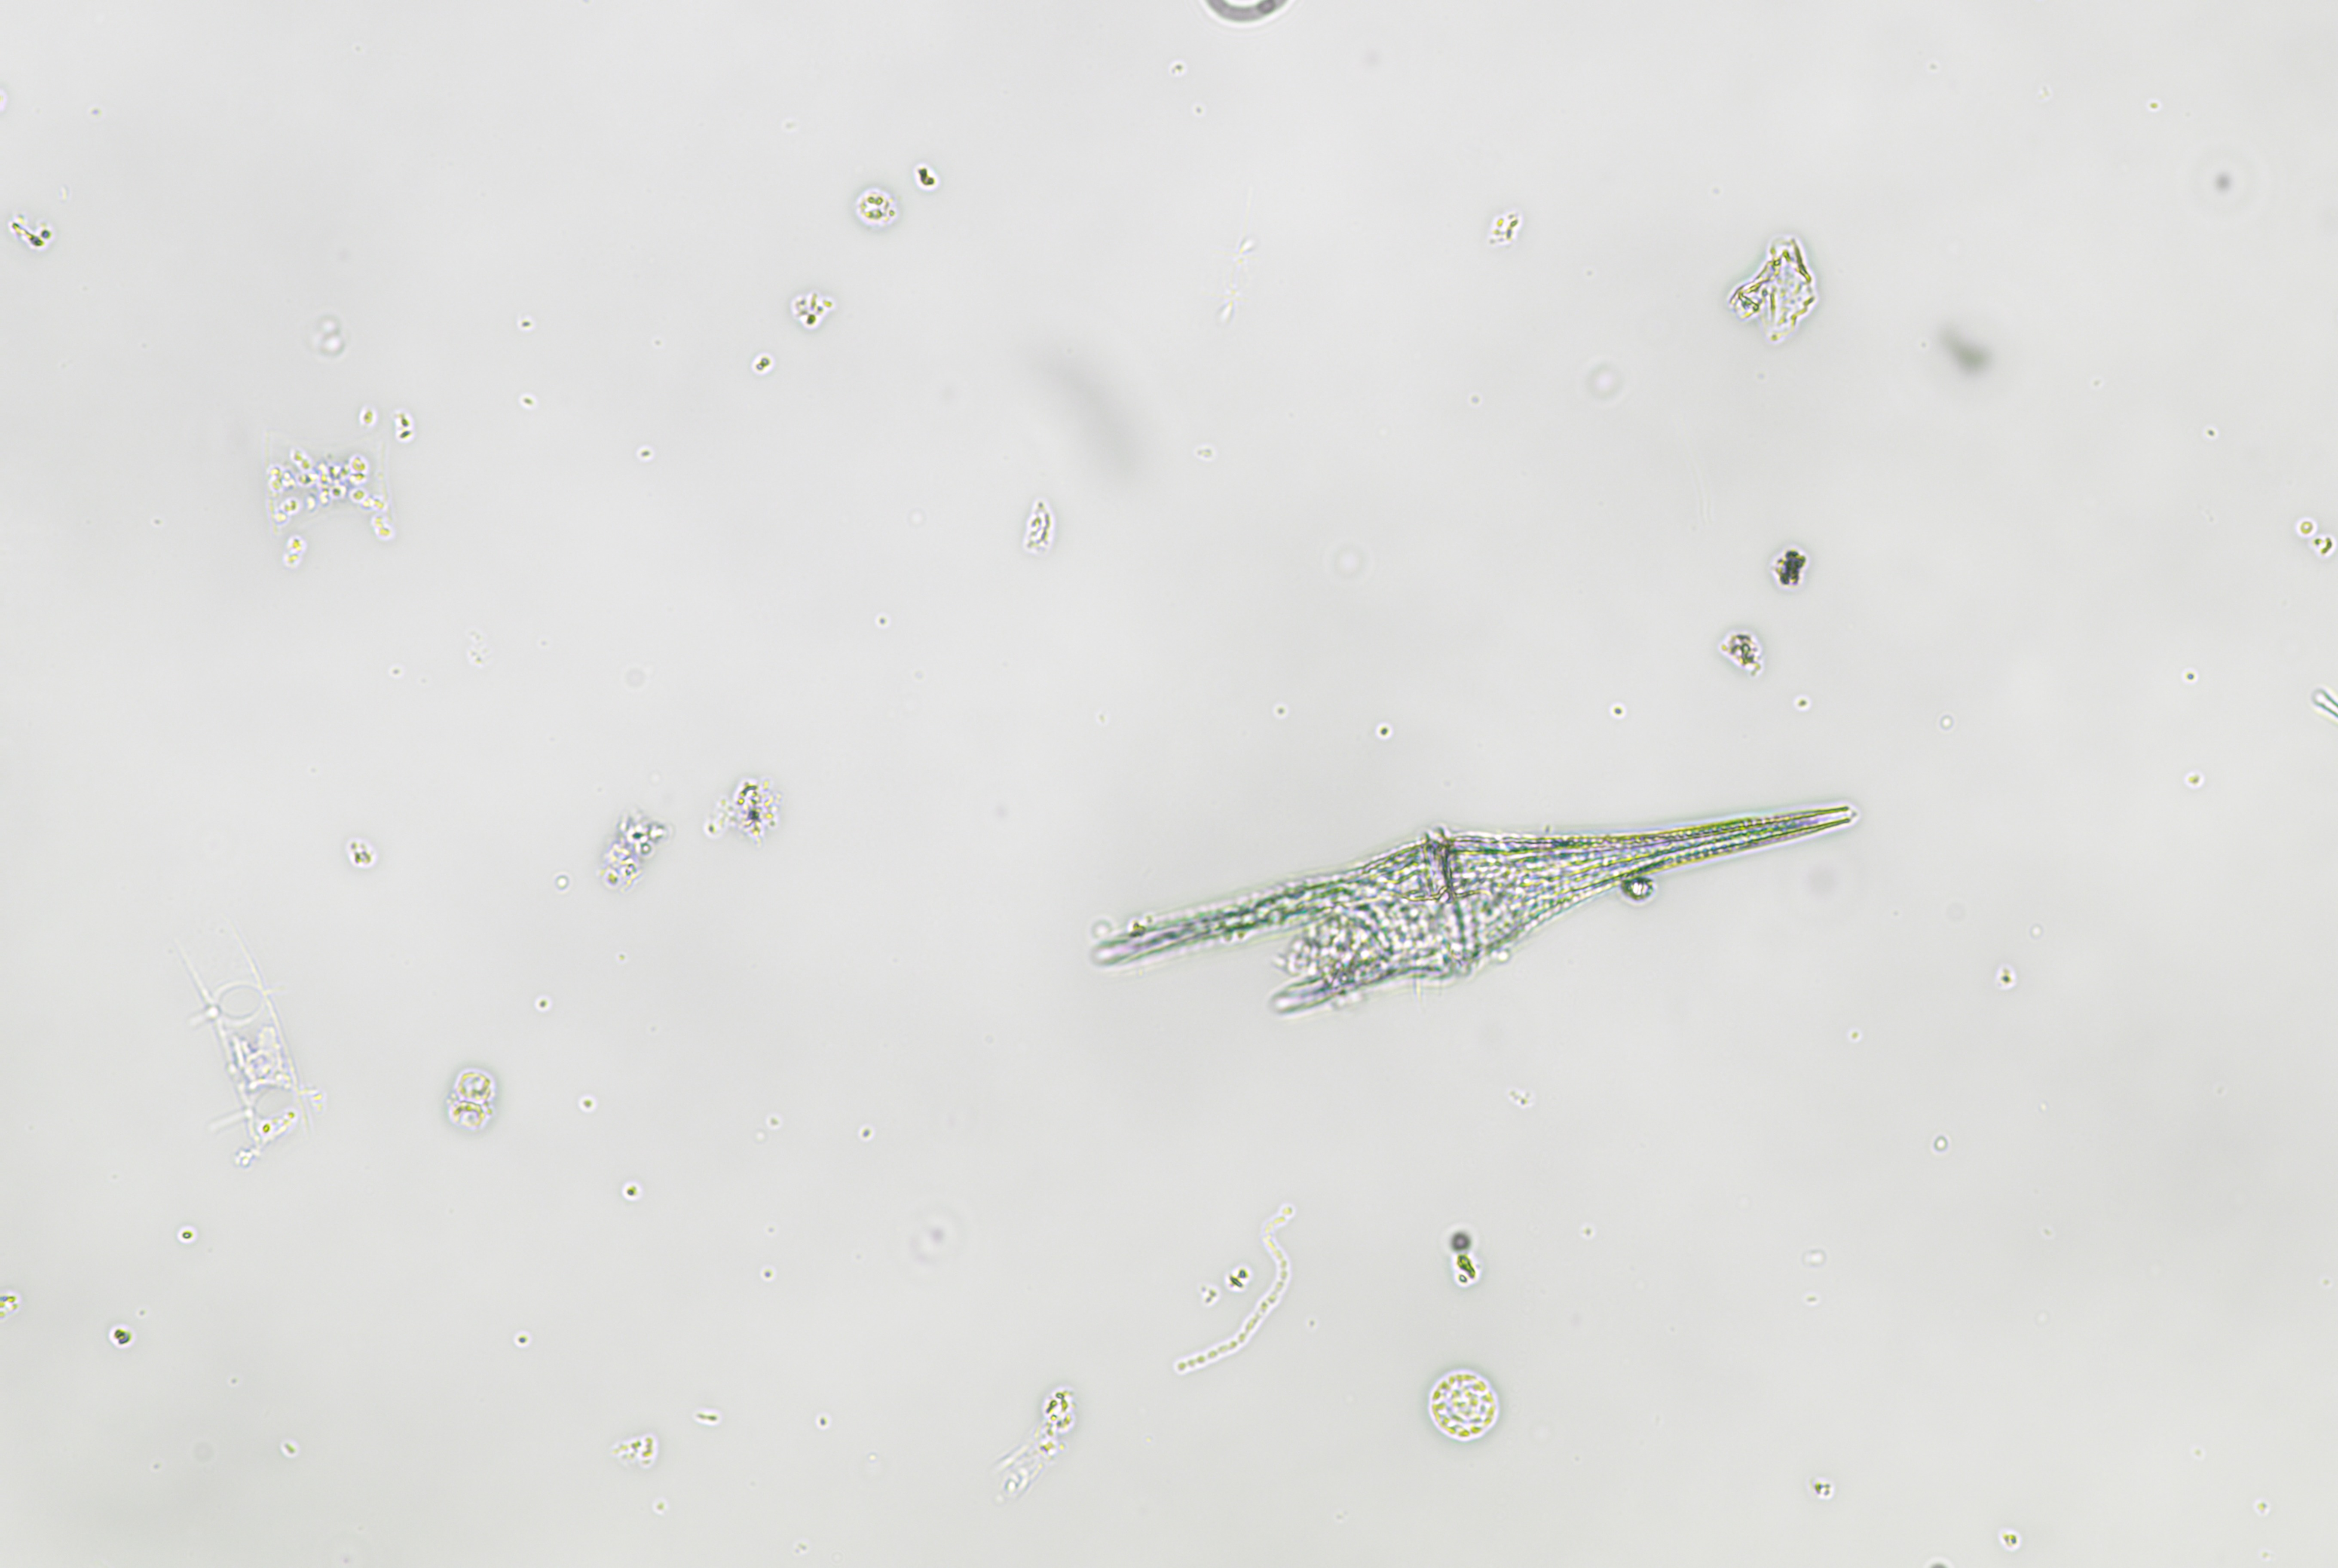ceratium furca: (1076, 794, 1867, 1018)
